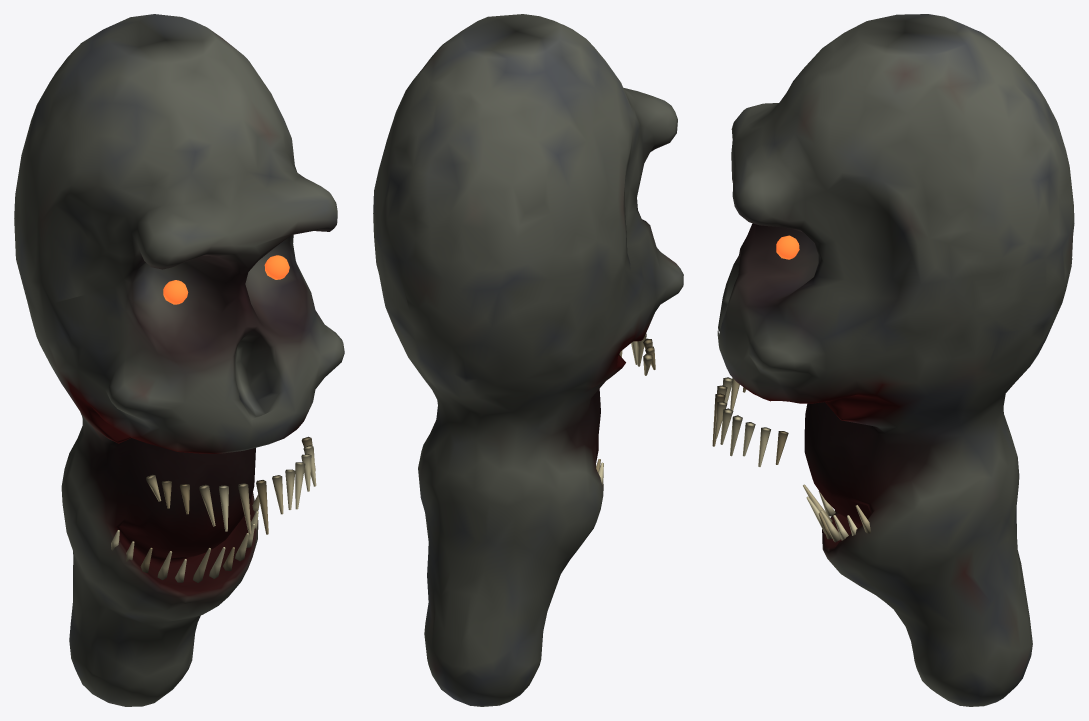
Rendered from hollow_head_x.glb.
The picture shows the model from 3 angles, left to right: view 1: azimuth 30°, elevation 25°; view 2: azimuth 150°, elevation 25°; view 3: azimuth 270°, elevation 25°; orthographic projection. The views are drawn at different scales.
Parts seen in each view (by area): view 1: hollow_head_x; view 2: hollow_head_x; view 3: hollow_head_x.
Part boxes in pixels (left/top/right/bottom): hollow_head_x: left=14, top=14, right=344, bottom=706; hollow_head_x: left=373, top=14, right=683, bottom=706; hollow_head_x: left=712, top=14, right=1074, bottom=706.
Bounding box in the file's own units: 0.1618 × 0.439 × 0.2156.
